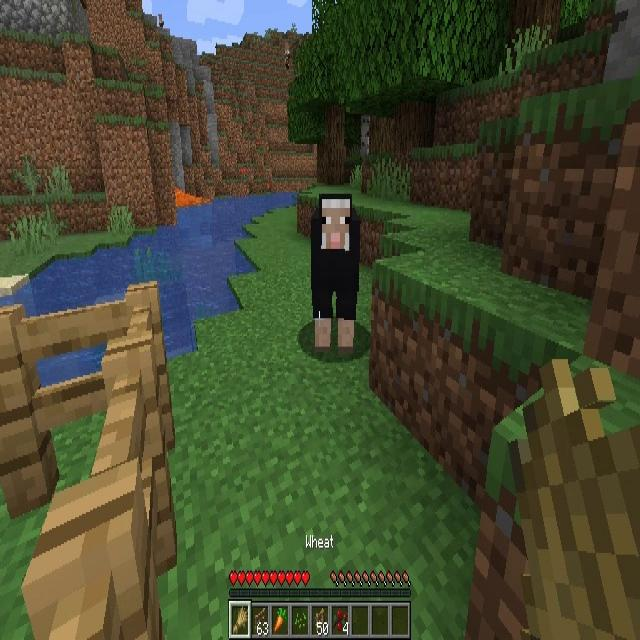sheep: (310, 198, 360, 350)
